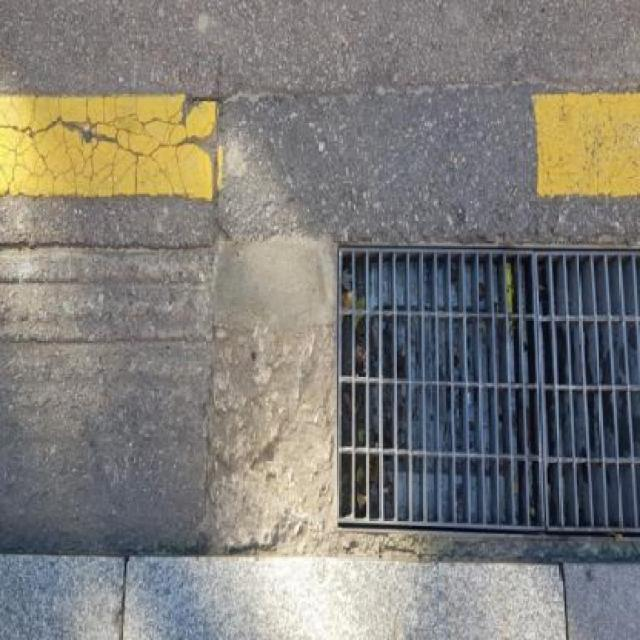Drain Hole: (339, 226, 623, 560)
